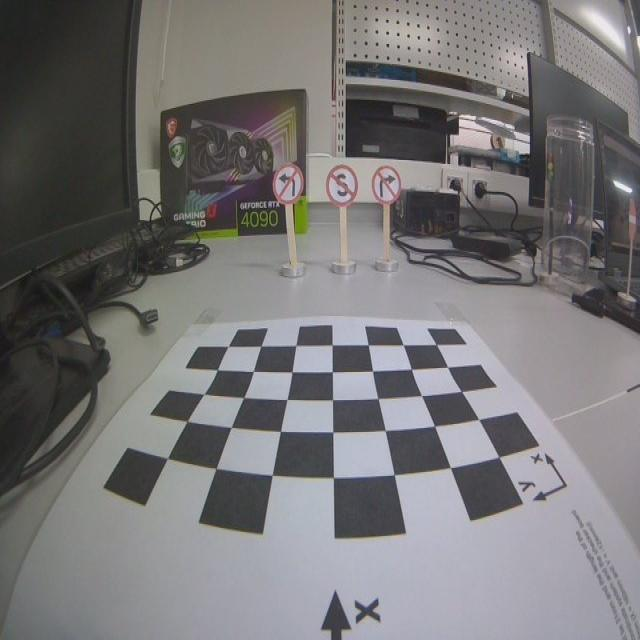Dilarang Belok Kanan: (371, 165, 401, 206)
Dilarang Belok Kiri: (272, 165, 303, 203)
Rambu Berhenti: (326, 166, 358, 208)
